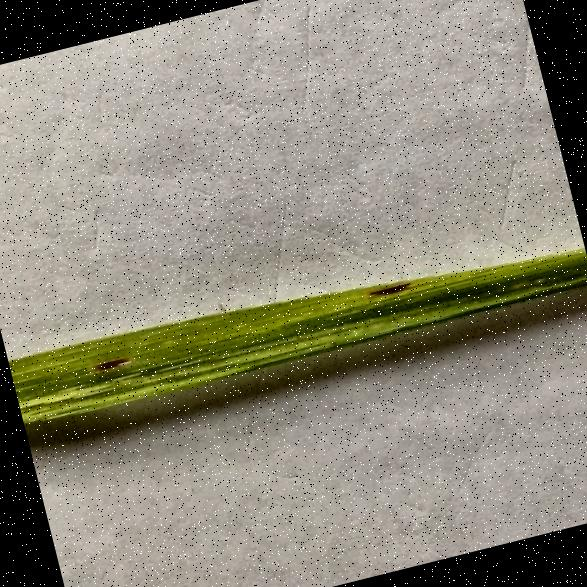Leaf_smut: (348, 250, 501, 328), (57, 338, 149, 396)
